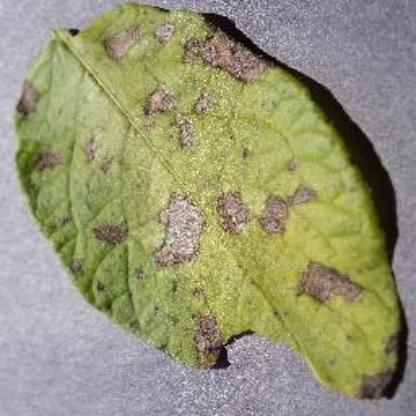Early-Blight: (13, 4, 407, 398)
